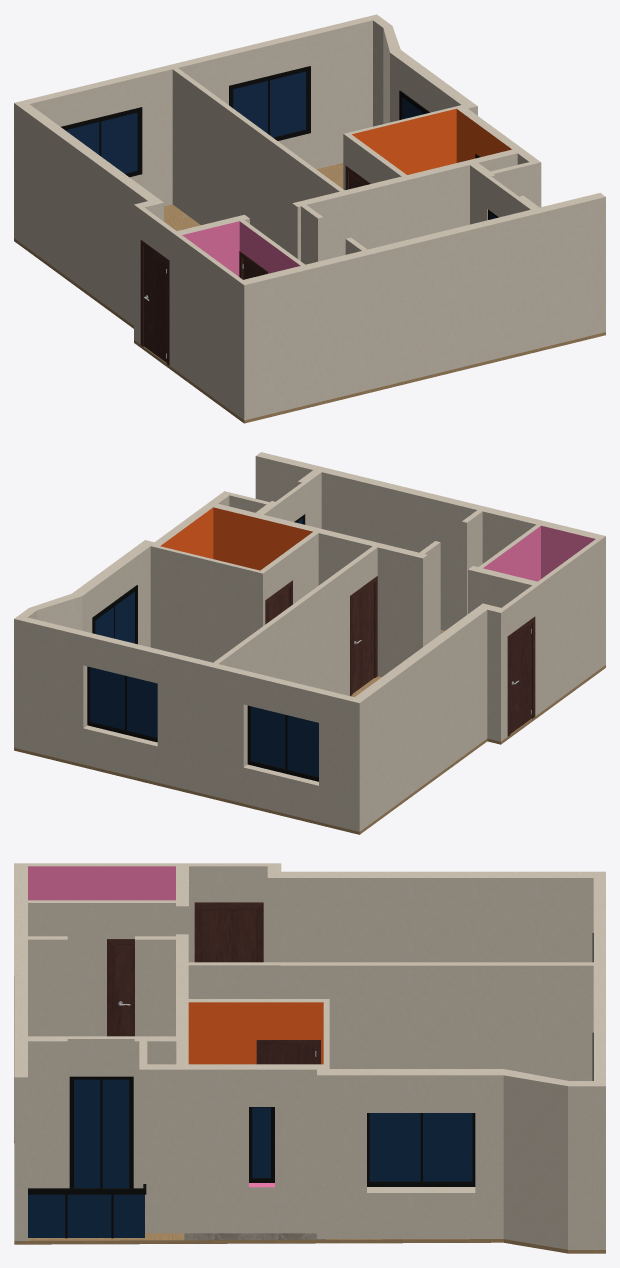
File: Flat03_Zahyia.fbx
3 views of the same model, one above another, from view 1: azimuth 30°, elevation 25°; view 2: azimuth 150°, elevation 25°; view 3: azimuth 270°, elevation 25° (orthographic). The views are drawn at different scales.
Parts seen in each view (by area): view 1: Line005, Object34603, Shape003, D2-Door020, D2-Frame022; view 2: Line005, Object34603, Shape003, D2-Door022, D2-Door020, D2-Frame022, D2-Frame024; view 3: Line005, Object34603, Object34588, Object34593, Shape003, D2-Door020, D2-Door021, D2-Frame022, D2-Door023, D2-Frame023, D2-Frame025.
Boxes of the visible parts, box(x1,y1,x2,y2) form: Line005: box(14, 14, 605, 420); Object34603: box(61, 66, 480, 177); Shape003: box(14, 163, 605, 423); D2-Door020: box(144, 248, 166, 362); D2-Frame022: box(140, 240, 169, 365); Line005: box(14, 452, 605, 831); Object34603: box(87, 585, 318, 781); Shape003: box(14, 630, 605, 834); D2-Door022: box(352, 584, 373, 693); D2-Door020: box(510, 624, 531, 733); D2-Frame022: box(507, 616, 535, 736); D2-Frame024: box(350, 576, 377, 696); Line005: box(14, 863, 605, 1249); Object34603: box(249, 933, 593, 1186); Object34588: box(69, 1076, 133, 1188); Object34593: box(28, 1184, 146, 1238); Shape003: box(14, 1140, 605, 1253); D2-Door020: box(204, 910, 254, 962); D2-Door021: box(115, 946, 134, 1036); D2-Frame022: box(194, 902, 263, 962); D2-Door023: box(262, 1045, 316, 1064); D2-Frame023: box(107, 939, 134, 1036); D2-Frame025: box(256, 1040, 320, 1064).
Size of the model in its own units: 835 by 291 by 931.
Materials: 10 (4 with a texture image).
